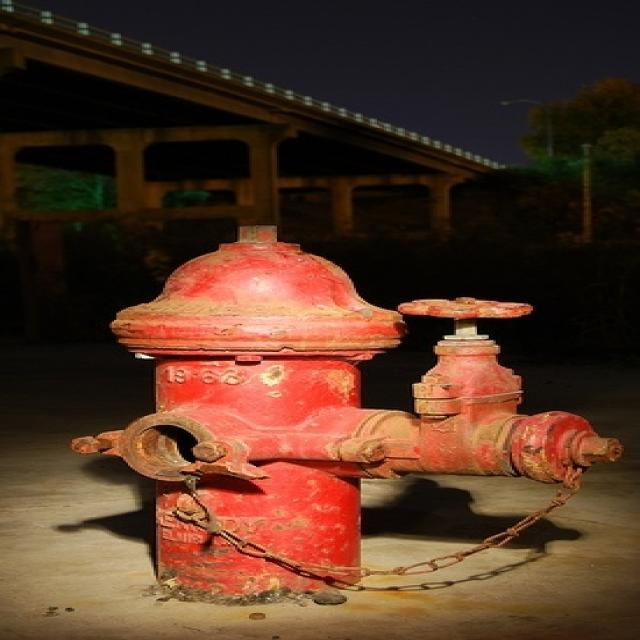fire_hydrant: (18, 185, 640, 640)
